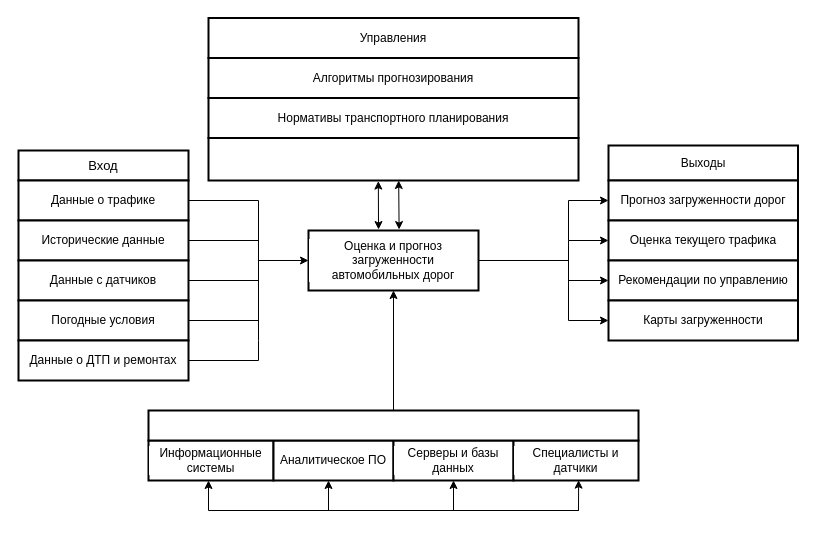
The diagram is 816 pixels wide and 536 high, and some of its shapes have lost their labels. Each missing label, with the centre of its shape:
"Механизмы" belongs at pixel 393 425.
"Правила дорожного движения" belongs at pixel 393 158.
